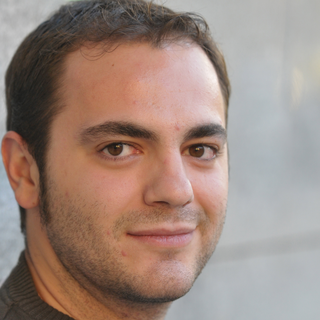eye: (94, 138, 144, 163), (181, 136, 226, 163)
